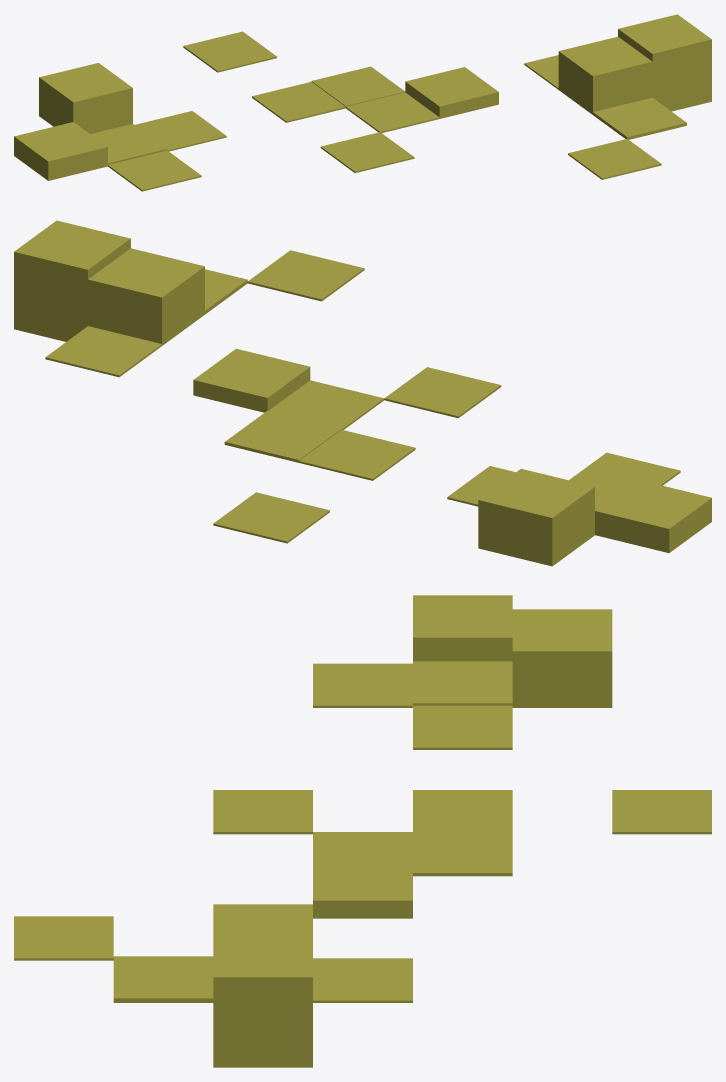
File: SM_Terrain_Bare_02.fbx
The picture shows the model from 3 angles, top to bottom: view 1: azimuth 30°, elevation 25°; view 2: azimuth 150°, elevation 25°; view 3: azimuth 270°, elevation 25°; orthographic projection. The views are drawn at different scales.
Visible parts, largest first — view 1: SM_Tile_Bare_02; view 2: SM_Tile_Bare_02; view 3: SM_Tile_Bare_02.
Part boxes in pixels (x1=…): SM_Tile_Bare_02: x1=14, y1=14, x2=711, y2=191; SM_Tile_Bare_02: x1=14, y1=220, x2=711, y2=566; SM_Tile_Bare_02: x1=14, y1=595, x2=711, y2=1067.
Size of the model in its own units: 4000 by 400 by 2800.
